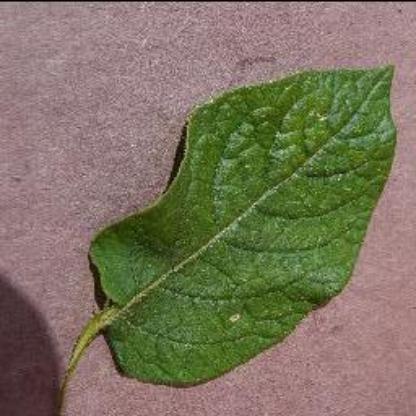Healthy-plant: (58, 61, 402, 391)
